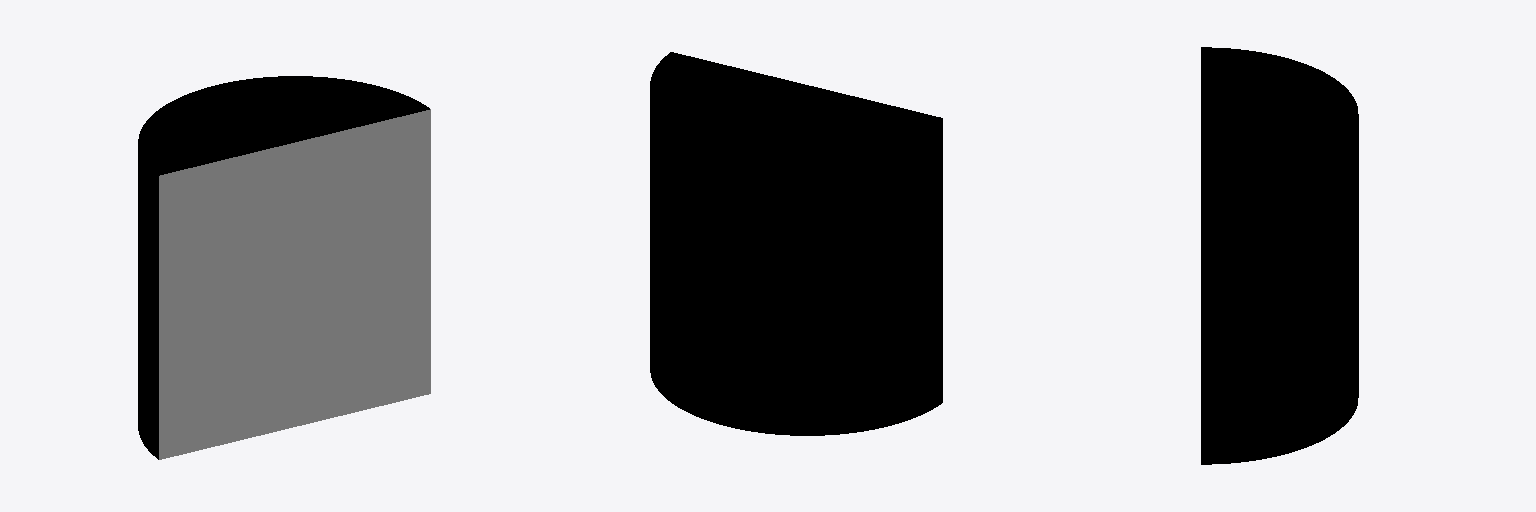
File: Stick.obj
3 renders of one model, left to right at view 1: azimuth 30°, elevation 25°; view 2: azimuth 150°, elevation 25°; view 3: azimuth 270°, elevation 25°, orthographic.
Visible parts, largest first — view 1: Cylinder; view 2: Cylinder; view 3: Cylinder.
Boxes of the visible parts, box(x1,y1,x2,y2) form: Cylinder: box(138, 76, 430, 459); Cylinder: box(650, 52, 942, 435); Cylinder: box(1201, 47, 1358, 464).
Bounding box in the file's own units: 2 × 2 × 1.